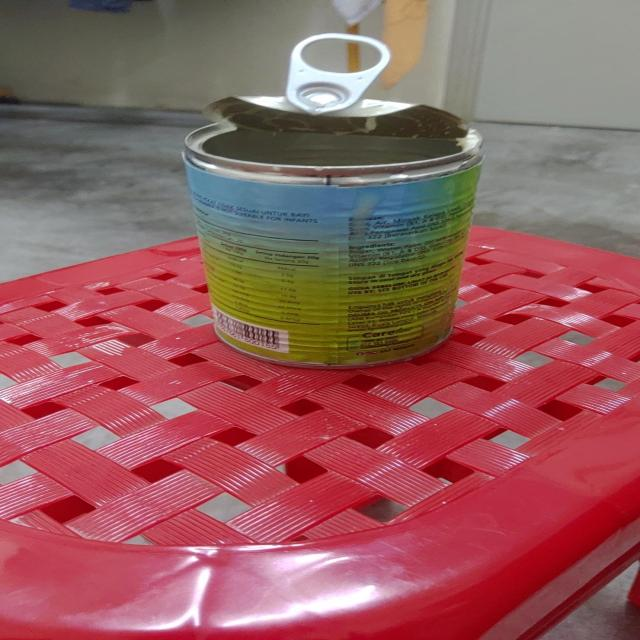can: (176, 32, 474, 367)
pop tab: (282, 34, 392, 113)
